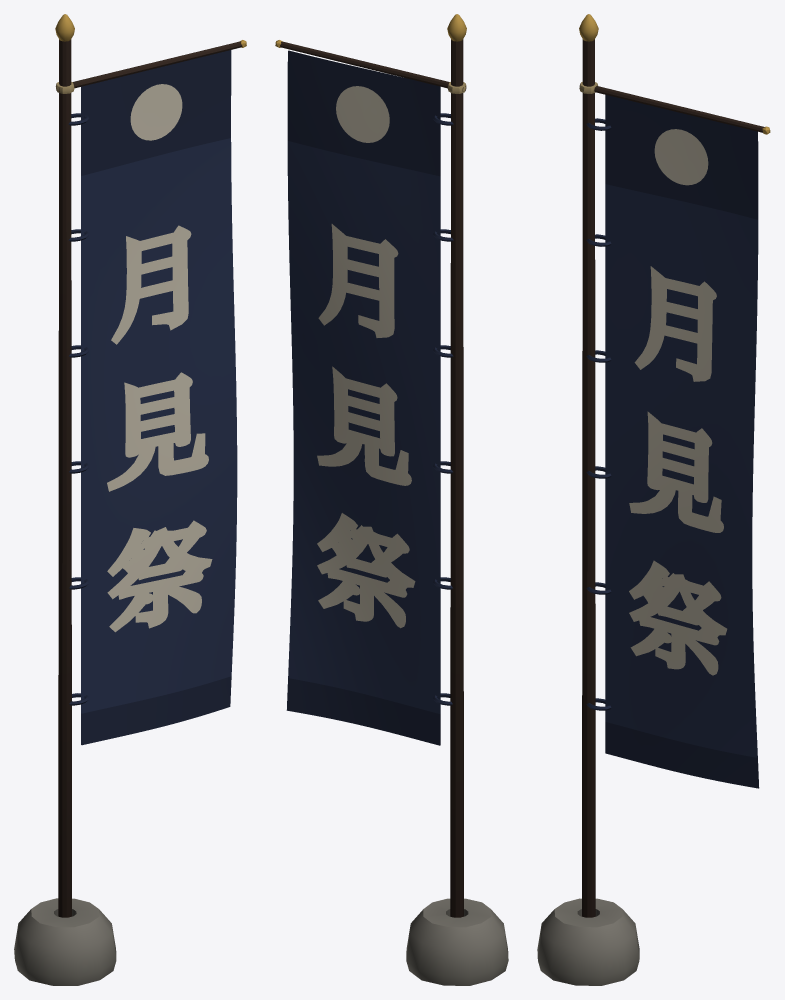
File: nobori.glb
3 views of the same model, side by side, from view 1: azimuth 30°, elevation 25°; view 2: azimuth 150°, elevation 25°; view 3: azimuth 330°, elevation 25° (orthographic).
Parts seen in each view (by area): view 1: banner_cloth, banner; view 2: banner_cloth, banner; view 3: banner_cloth, banner.
Part boxes in pixels (box(x1,y1,x2,y2)): banner_cloth: box(81, 50, 237, 745); banner: box(14, 14, 246, 985); banner_cloth: box(286, 50, 440, 745); banner: box(275, 14, 508, 985); banner_cloth: box(605, 94, 759, 788); banner: box(537, 14, 770, 985).
Size of what is drawn, in the model's own units: 0.8964 by 3.61 by 0.352.
